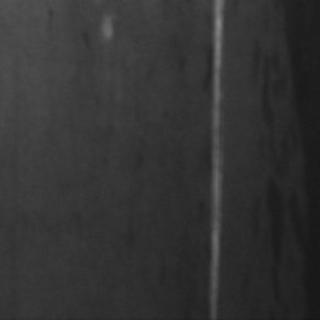scratches: (200, 0, 228, 316)
